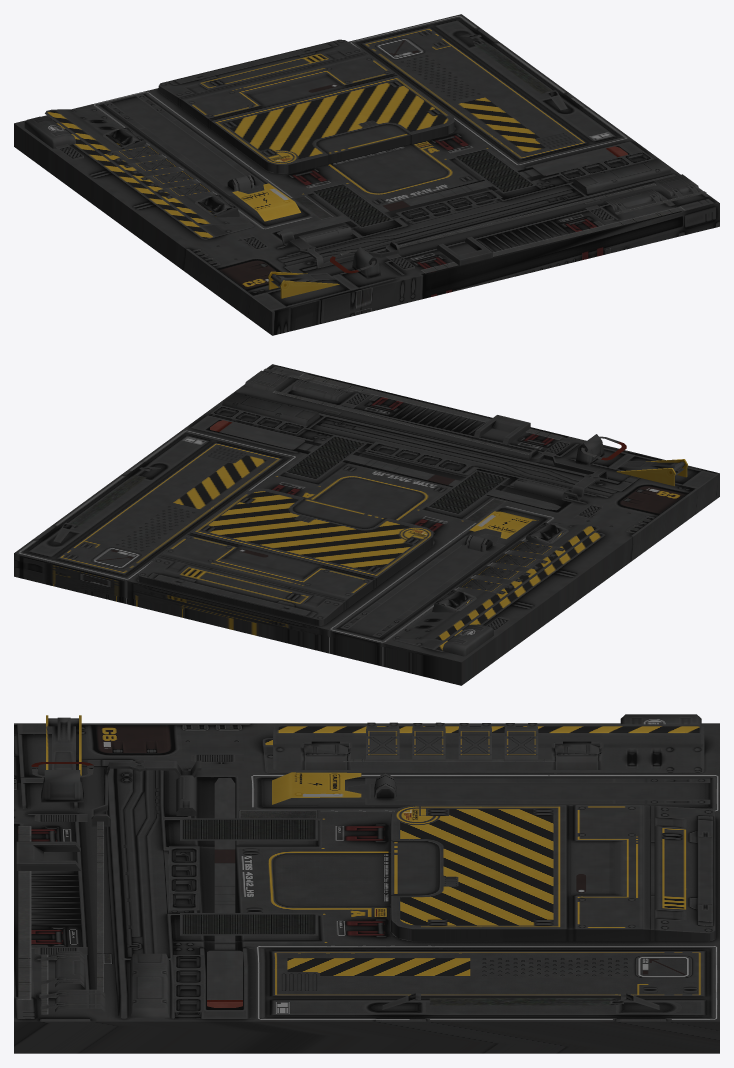
File: Wall_4x4_L3.FBX
The picture shows the model from 3 angles, top to bottom: view 1: azimuth 30°, elevation 25°; view 2: azimuth 150°, elevation 25°; view 3: azimuth 270°, elevation 25°; orthographic projection. The views are drawn at different scales.
Visible parts, largest first — view 1: Wall_4x4_L3; view 2: Wall_4x4_L3; view 3: Wall_4x4_L3.
Part boxes in pixels (x1=…): Wall_4x4_L3: x1=14, y1=14, x2=719, y2=335; Wall_4x4_L3: x1=14, y1=364, x2=719, y2=685; Wall_4x4_L3: x1=14, y1=714, x2=719, y2=1053.
Bounding box in the file's own units: 400 × 37.5 × 400.
